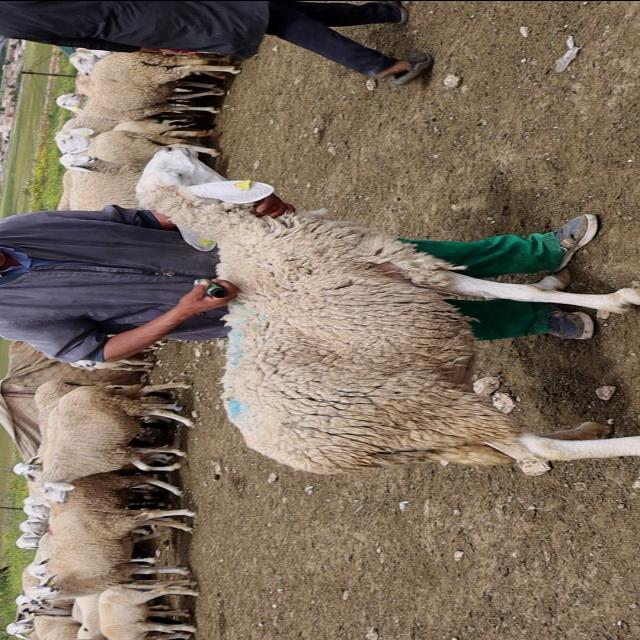Score_2: (136, 144, 639, 474)
